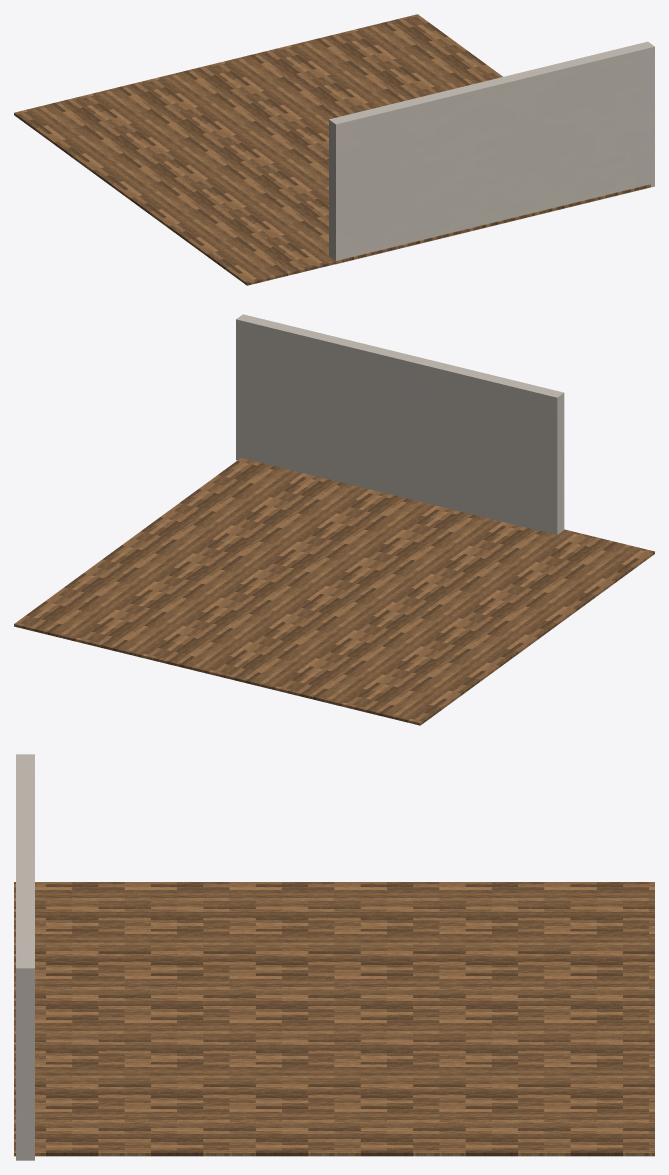
Rendered from scenebug.glb.
3 renders of one model, top to bottom at view 1: azimuth 30°, elevation 25°; view 2: azimuth 150°, elevation 25°; view 3: azimuth 270°, elevation 25°, orthographic. The views are drawn at different scales.
Visible parts, largest first — view 1: Floor, Wall_outside; view 2: Floor, Wall_outside; view 3: Floor, Wall_outside.
Part boxes in pixels (x1,y1,x2,y2): Floor: [14, 14, 650, 285]; Wall_outside: [329, 41, 654, 264]; Floor: [14, 458, 654, 725]; Wall_outside: [236, 314, 564, 534]; Floor: [14, 882, 654, 1156]; Wall_outside: [16, 754, 34, 1160].
Bounding box in the file's own units: 1214 × 397 × 1200.
Materials: 2 (2 with a texture image).
